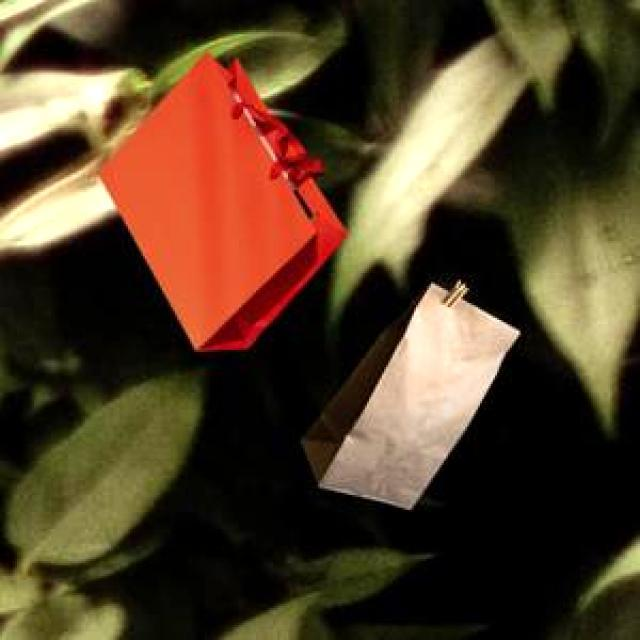Paper_Bag: (94, 50, 344, 347), (298, 280, 516, 507)
